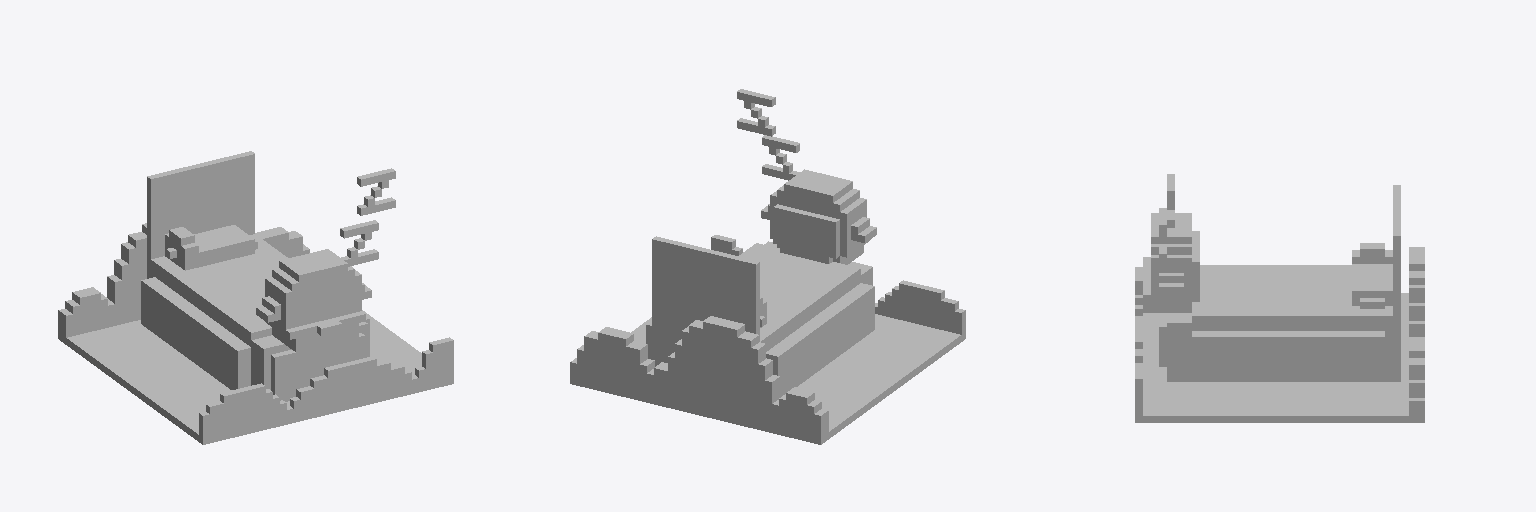
File: Shleeping.obj
The picture shows the model from 3 angles: view 1: azimuth 30°, elevation 25°; view 2: azimuth 150°, elevation 25°; view 3: azimuth 270°, elevation 25°; orthographic projection.
Visible parts, largest first — view 1: object 1; view 2: object 1; view 3: object 1.
Part boxes in pixels (x1,y1,x2,y2): object 1: (58,151,453,444); object 1: (570,89,965,444); object 1: (1135,174,1424,422).
Bounding box in the file's own units: 3.6 × 2.9 × 3.6.